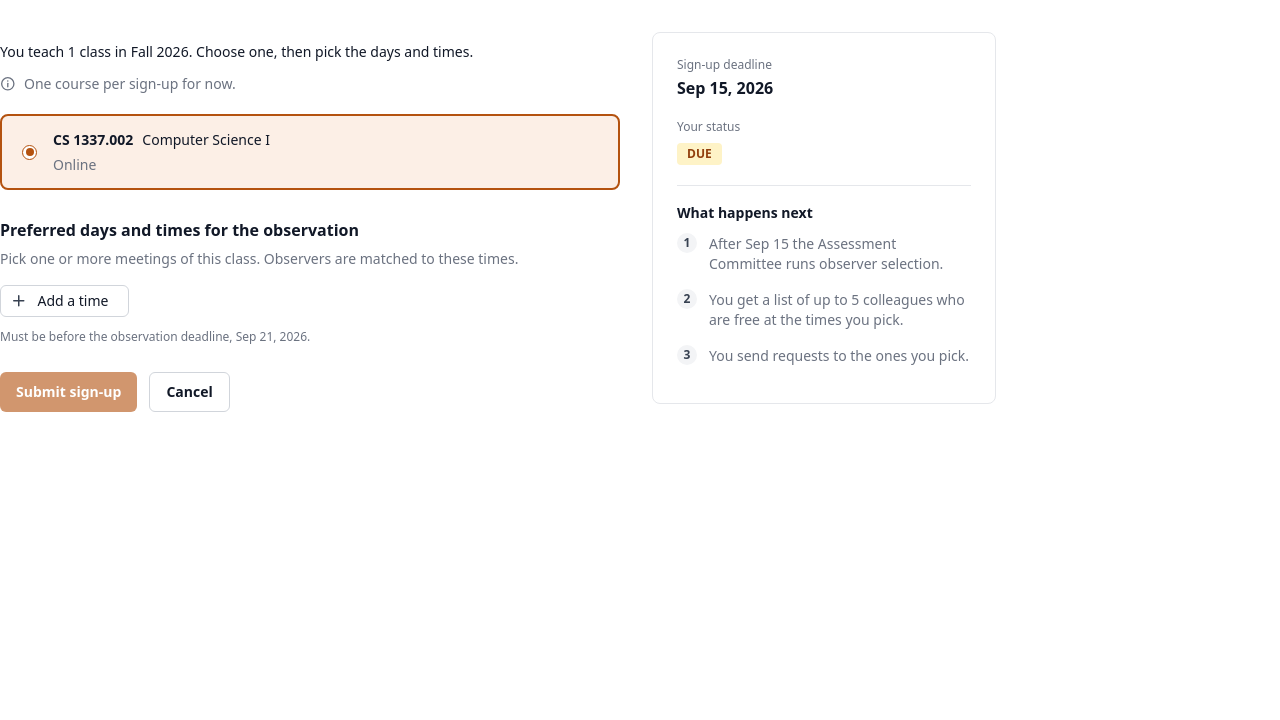
Test: explains when a section has no eligible class meetings in the observation window
Step 1. Click the button "Add a time" → (65, 301), box x1=0 y1=285 x2=130 y2=317
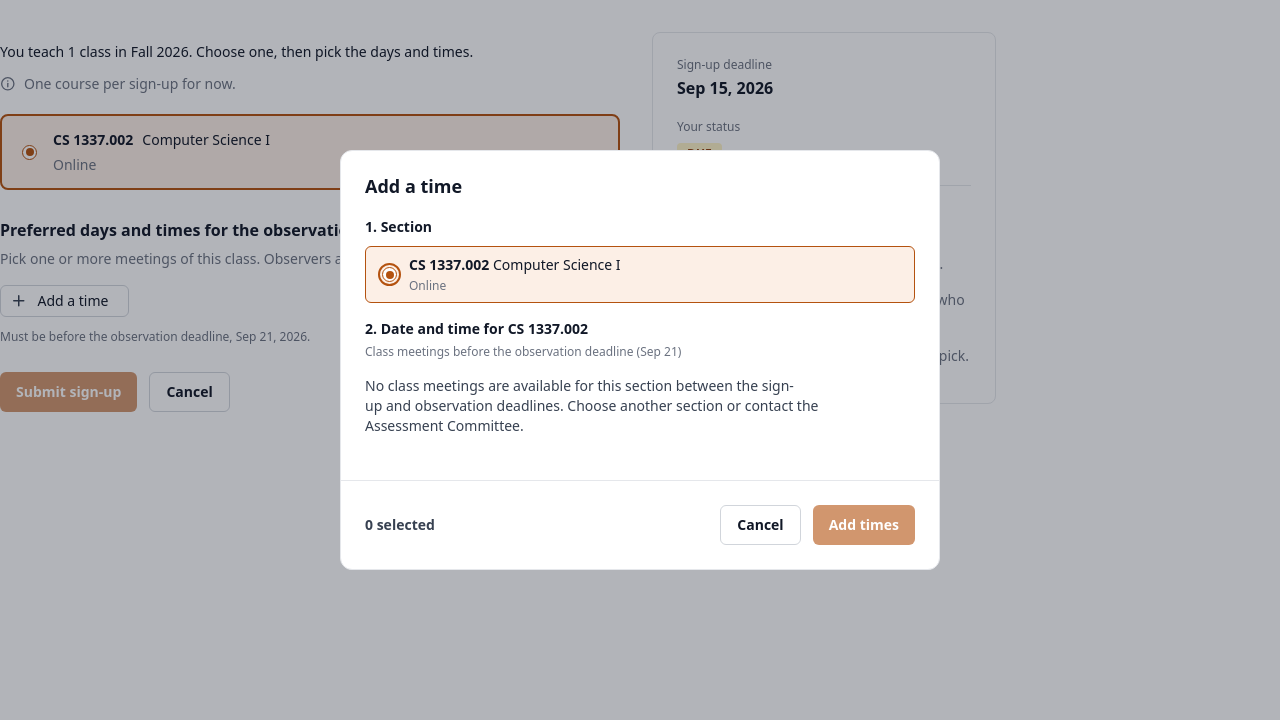
Expected: the text "No class meetings are available" is shown, x1=365 y1=376 x2=818 y2=435
Expected: the button "Add times" is disabled, x1=813 y1=505 x2=915 y2=545
